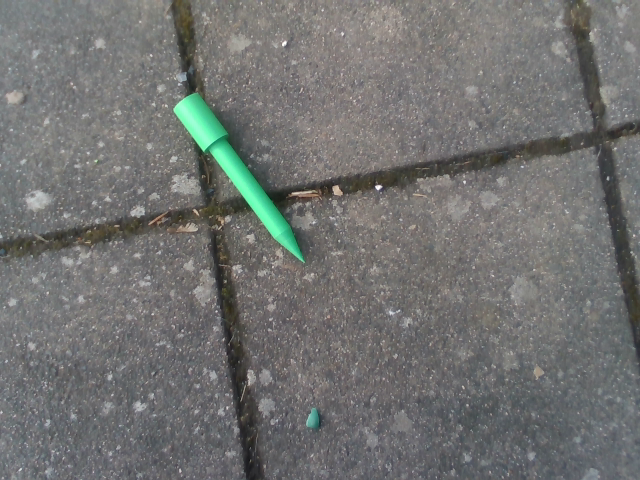Probe: (166, 85, 309, 271)
